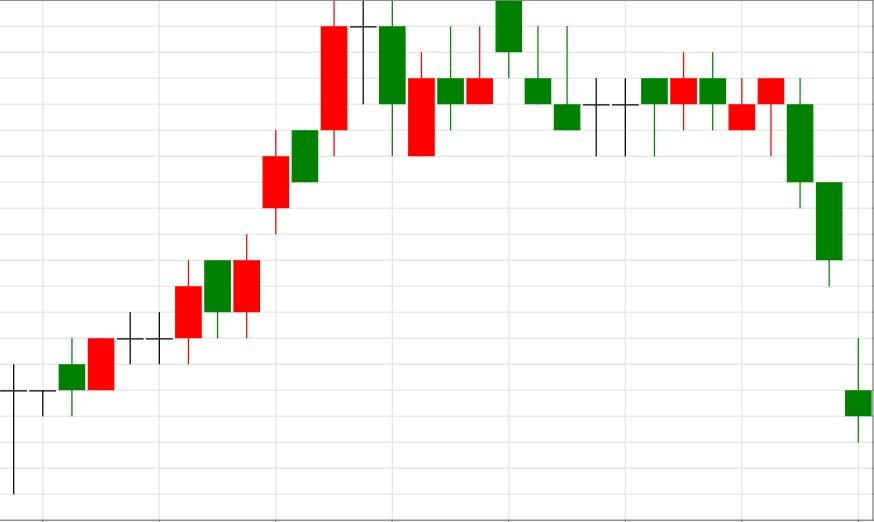evening_star_fall: (0, 0, 407, 495)
inverse_hammer_rise: (495, 0, 582, 132)
three_black_crows_fall: (407, 0, 582, 157)
